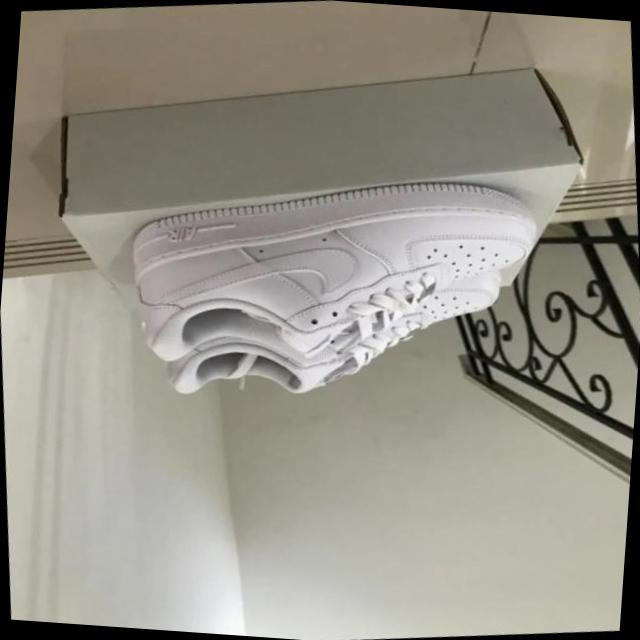nike_original_airforce: (109, 144, 564, 406), (145, 258, 510, 422)
